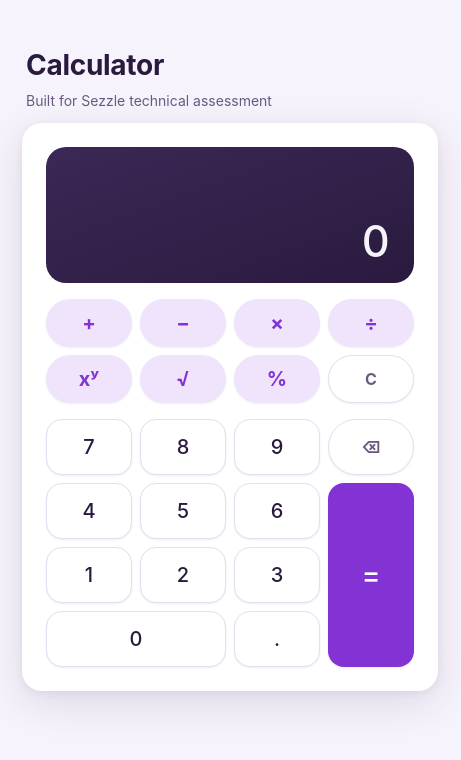
it: App › applies square root to the current value immediately
This screenshot has width=461, height=760.
Click the button "8": [183, 446] box [140,418,226,474]
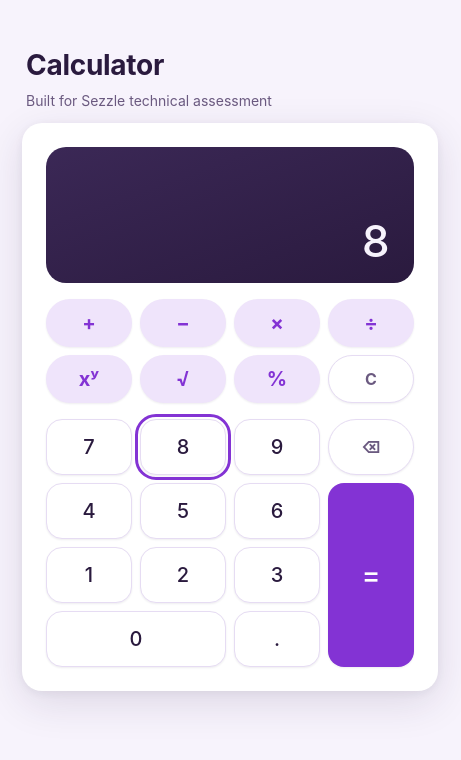
Click the button "1": [89, 574] box [46,546,132,602]
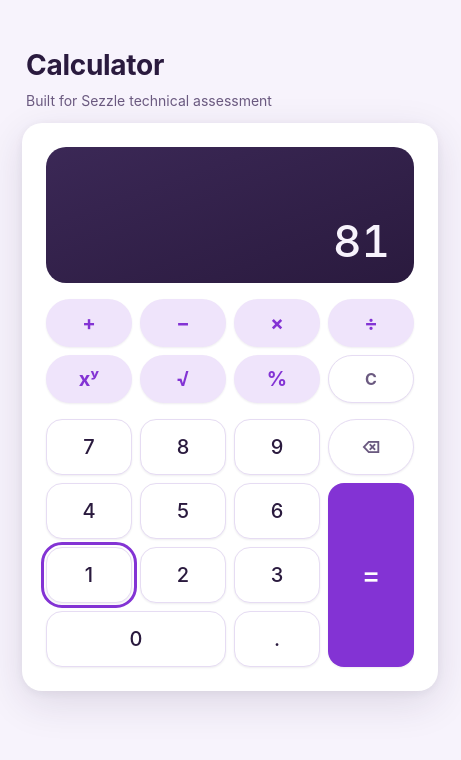
Click the button named "Square root": [183, 378] box [140,354,226,402]
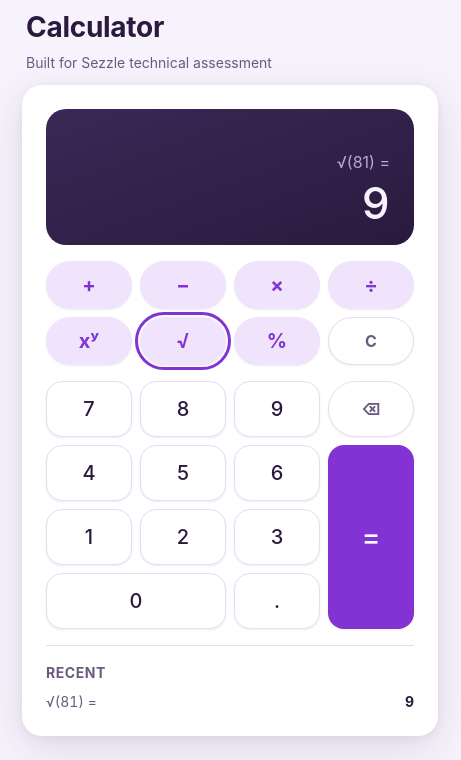
expect the 1st text "9" is shown: met, box [362,176,390,230]
expect the text with test id "expression" reads "√(81) =": met, box [337,152,390,172]
